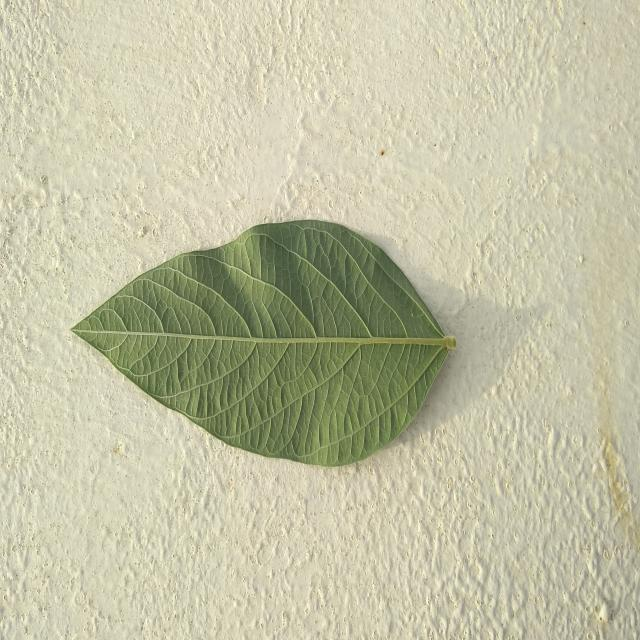.: (72, 220, 456, 467)
pea: (72, 220, 456, 467)
